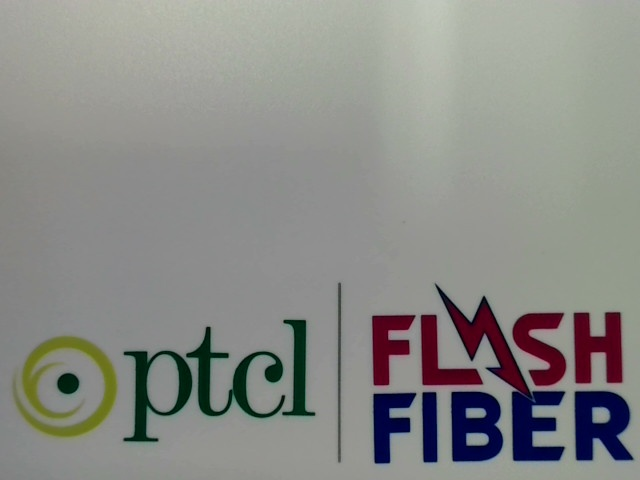BF_PTCL: (4, 311, 326, 446)
